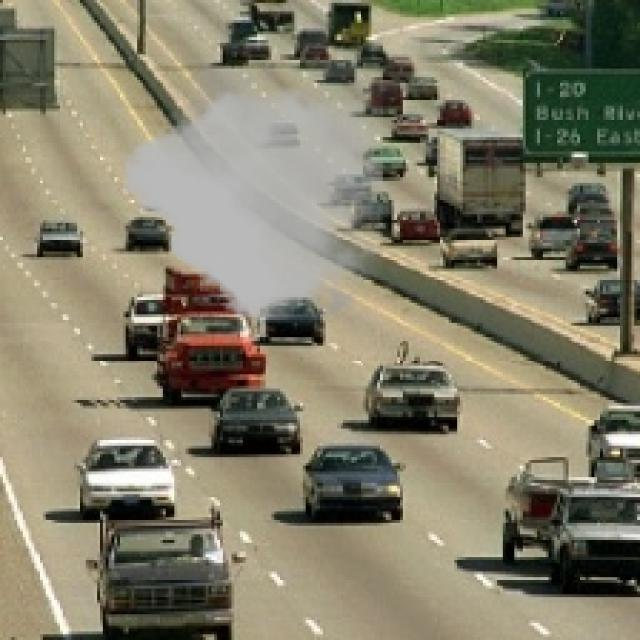smoke: (123, 57, 383, 326)
